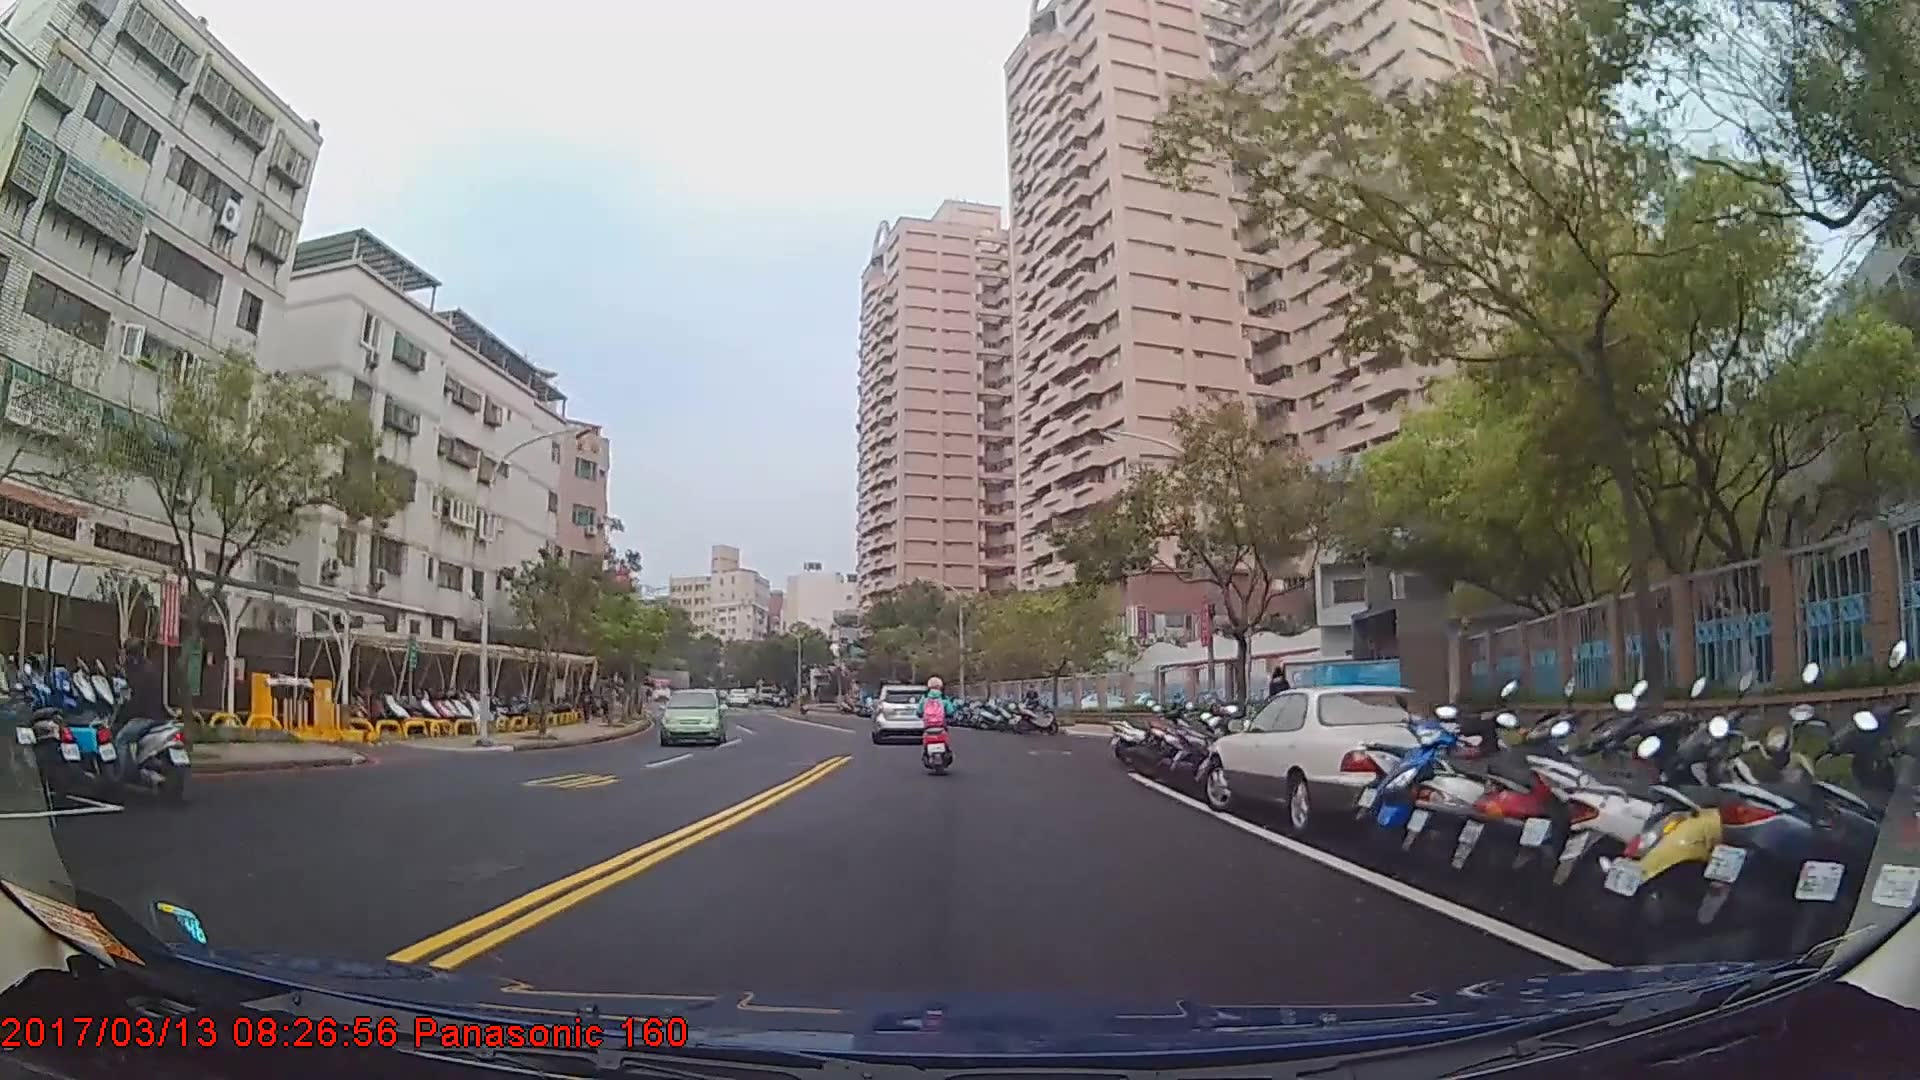pedestrian: (1269, 664, 1297, 744), (1023, 686, 1043, 727)
rider: (78, 643, 190, 802), (916, 675, 955, 778)
vehicle: (1203, 683, 1510, 829), (657, 687, 725, 747), (870, 682, 934, 742)
